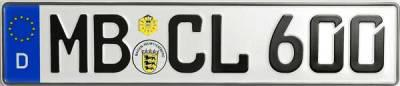0: (348, 13, 387, 74), (308, 13, 346, 75)
6: (267, 13, 305, 75)
B: (92, 13, 132, 74)
C: (166, 14, 207, 74)
L: (210, 12, 250, 74)
M: (48, 13, 90, 74)
